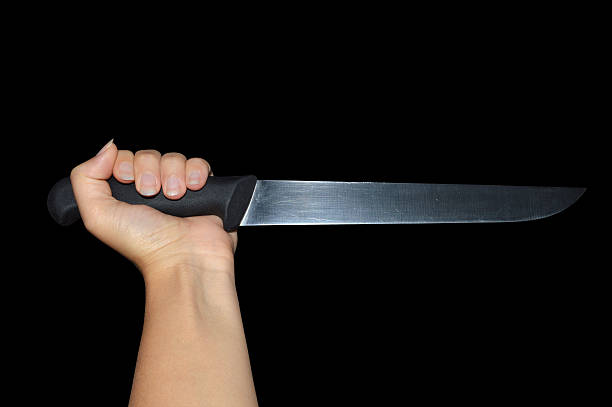knife: (43, 172, 589, 235)
